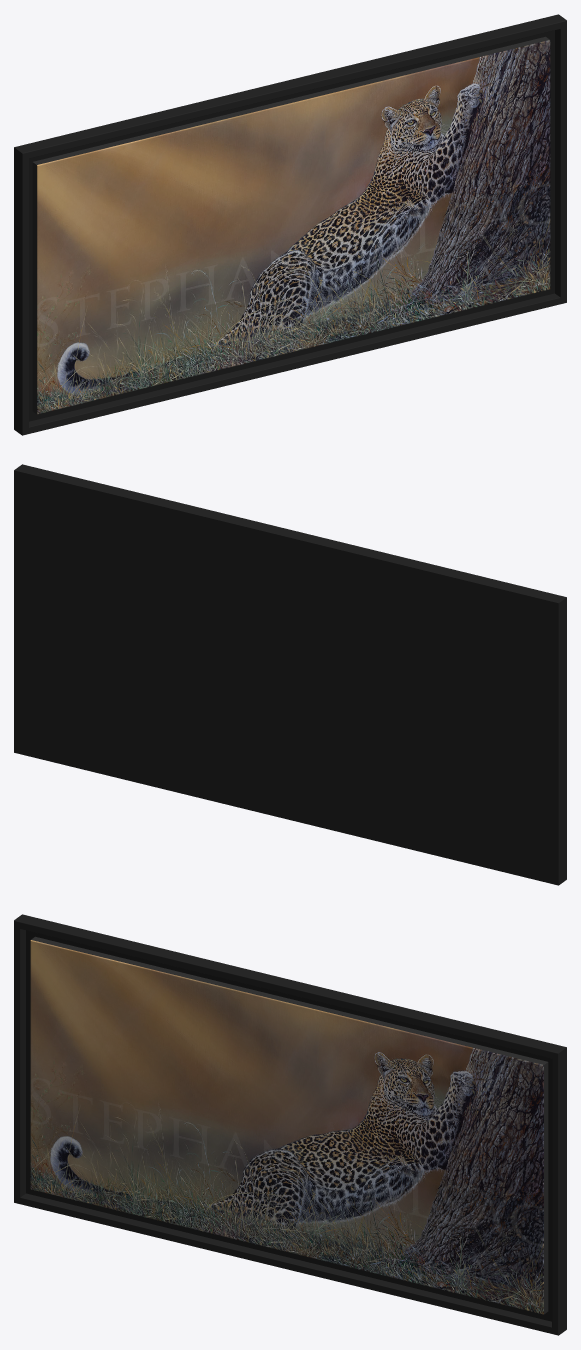
The model's file is tableau-romi-leopard-grand-451f91e9.glb.
3 renders of one model, top to bottom at view 1: azimuth 30°, elevation 25°; view 2: azimuth 150°, elevation 25°; view 3: azimuth 330°, elevation 25°, orthographic.
Parts seen in each view (by area): view 1: Painting; view 2: Painting; view 3: Painting.
Part boxes in pixels (box(x1,y1,x2,y2)): Painting: box(14, 14, 566, 435); Painting: box(14, 464, 566, 885); Painting: box(14, 914, 566, 1335).
Size of the model in its own units: 1.49 by 0.736 by 0.04.
Materials: 4 (2 with a texture image).
